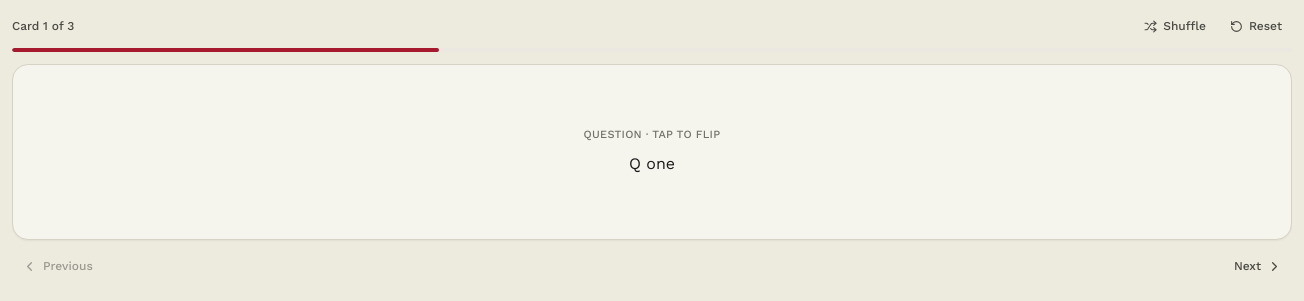
it: FlashcardViewer › navigates with next/previous and clamps at the ends
The image size is (1304, 301).
Expected: the button with aria-label "Previous card" is disabled, x1=12 y1=252 x2=103 y2=280
What coordinates should you click on to do the following:
click the button with aria-label "Next card"
I would click on:
 (1258, 266)
Its box is x1=1224 y1=252 x2=1292 y2=280.
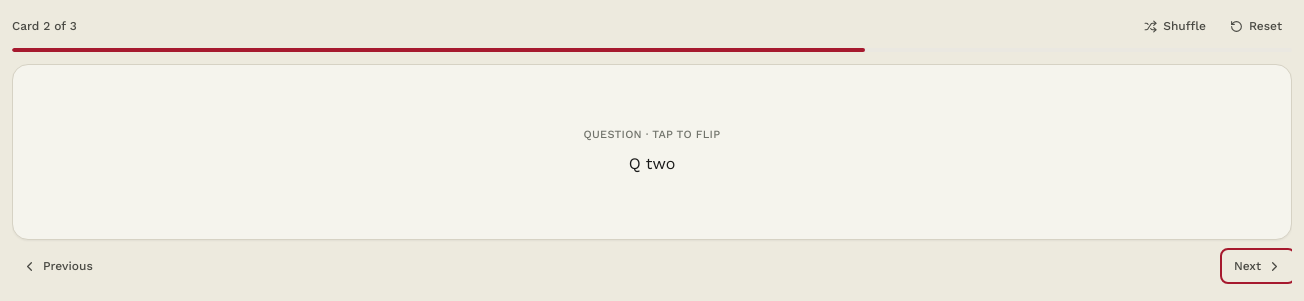
Now the text "Q two" is shown, box x1=629 y1=154 x2=675 y2=173
What coordinates should you click on to do the following:
click the button with aria-label "Next card"
I would click on:
 (1258, 266)
Its box is x1=1224 y1=252 x2=1292 y2=280.
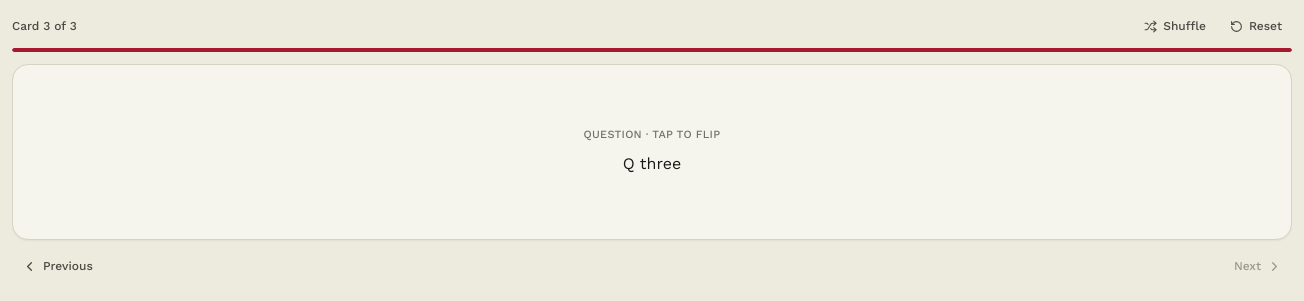
Now the text "Q three" is shown, box x1=623 y1=154 x2=681 y2=173
Now the button with aria-label "Next card" is disabled, box x1=1224 y1=252 x2=1292 y2=280
